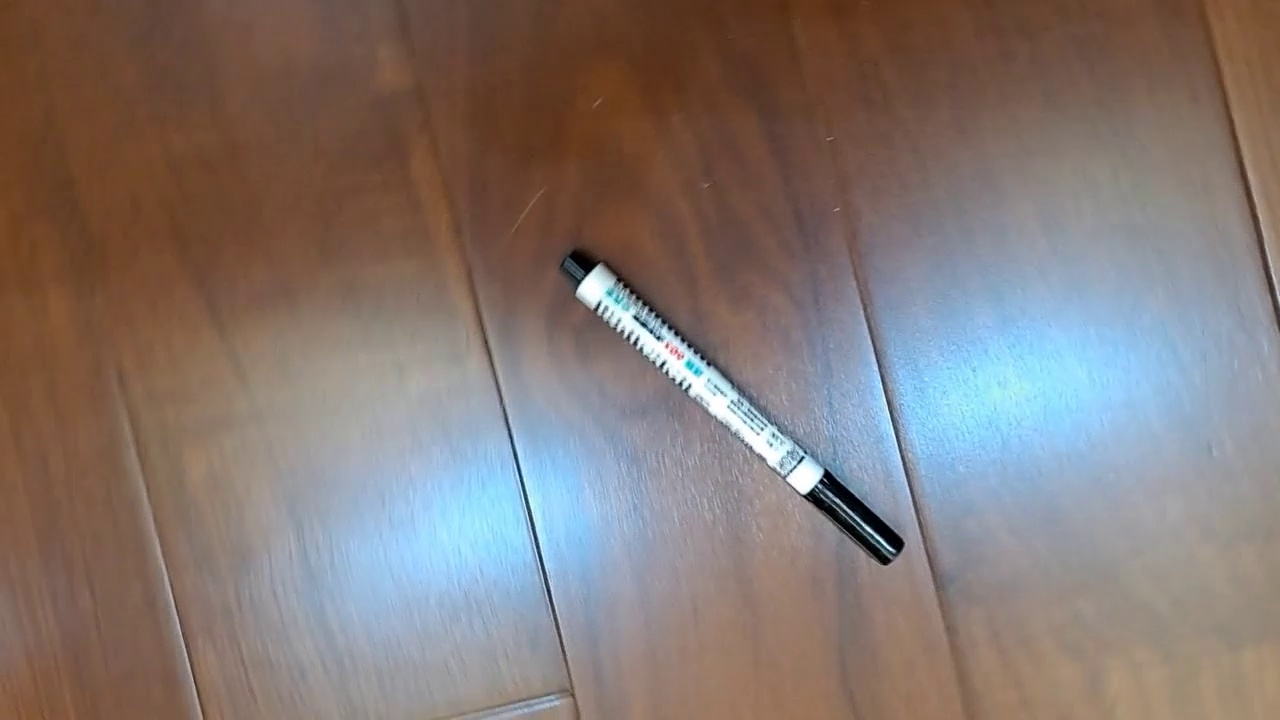pen: (556, 246, 907, 568)
